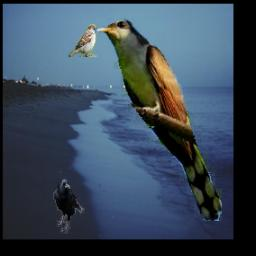Crow: (54, 177, 86, 235)
Cuckoo: (96, 18, 223, 222)
Sparrow: (69, 24, 98, 57)
